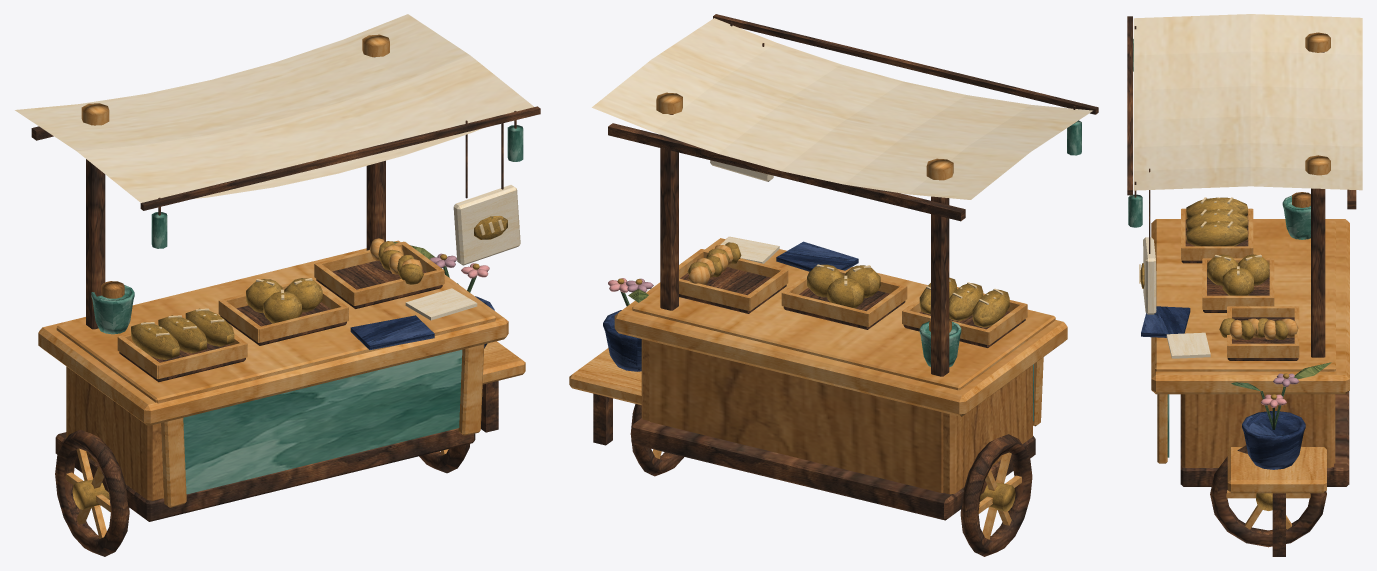
File: bk_project_candidate_bread_cart_editable_parts.glb
The picture shows the model from 3 angles, left to right: view 1: azimuth 30°, elevation 25°; view 2: azimuth 150°, elevation 25°; view 3: azimuth 270°, elevation 25°; orthographic projection. The views are drawn at different scales.
Visible parts, largest first — view 1: 035 Candidate restrained ivory upturned craft awning, 006 Front hand-painted apron, 002 Bread display counter, 001 Counter golden edge, 000 Cart underframe, 004 Cart side storage wall, 013 Cart wooden wheel, 036 Candidate dark timber eave, 086 Bakery hanging sign, 030 Awning post, 007 Apron framing board, 008 Apron framing board (+24 smaller); view 2: 035 Candidate restrained ivory upturned craft awning, 003 Deep storage back, 002 Bread display counter, 001 Counter golden edge, 000 Cart underframe, 004 Cart side storage wall, 013 Cart wooden wheel, 034 Awning rear spreader, 036 Candidate dark timber eave, 030 Awning post, 032 Awning post, 093 Asymmetric planter shelf (+21 smaller); view 3: 035 Candidate restrained ivory upturned craft awning, 002 Bread display counter, 005 Cart side storage wall, 001 Counter golden edge, 093 Asymmetric planter shelf, 095 Blue herb planter, 021 Cart wooden wheel, 032 Awning post, 000 Cart underframe, 054 Golden baguette, 082 Folded indigo tea towel, 036 Candidate dark timber eave (+19 smaller).
Boxes of the visible parts, x1,y1,x2,y2 form: 035 Candidate restrained ivory upturned craft awning: [15, 14, 533, 202]; 006 Front hand-painted apron: [183, 349, 462, 494]; 002 Bread display counter: [56, 250, 495, 403]; 001 Counter golden edge: [38, 240, 508, 425]; 000 Cart underframe: [55, 428, 475, 521]; 004 Cart side storage wall: [66, 366, 163, 501]; 013 Cart wooden wheel: [55, 429, 129, 556]; 036 Candidate dark timber eave: [140, 106, 540, 210]; 086 Bakery hanging sign: [453, 185, 520, 265]; 030 Awning post: [86, 159, 105, 329]; 007 Apron framing board: [161, 418, 186, 507]; 008 Apron framing board: [458, 344, 484, 435]; 035 Candidate restrained ivory upturned craft awning: [592, 18, 1092, 199]; 003 Deep storage back: [649, 341, 943, 492]; 002 Bread display counter: [632, 238, 1055, 390]; 001 Counter golden edge: [614, 238, 1067, 416]; 000 Cart underframe: [631, 418, 1035, 520]; 004 Cart side storage wall: [943, 365, 1032, 494]; 013 Cart wooden wheel: [960, 434, 1032, 556]; 034 Awning rear spreader: [608, 123, 965, 221]; 036 Candidate dark timber eave: [713, 14, 1098, 114]; 030 Awning post: [931, 196, 949, 376]; 032 Awning post: [660, 114, 678, 310]; 093 Asymmetric planter shelf: [569, 348, 641, 405]; 035 Candidate restrained ivory upturned craft awning: [1133, 14, 1362, 190]; 002 Bread display counter: [1155, 219, 1335, 371]; 005 Cart side storage wall: [1181, 394, 1333, 467]; 001 Counter golden edge: [1151, 219, 1349, 394]; 093 Asymmetric planter shelf: [1227, 447, 1326, 493]; 095 Blue herb planter: [1242, 411, 1305, 469]; 021 Cart wooden wheel: [1210, 445, 1326, 547]; 032 Awning post: [1311, 188, 1325, 357]; 000 Cart underframe: [1180, 391, 1349, 486]; 054 Golden baguette: [1186, 221, 1247, 246]; 082 Folded indigo tea towel: [1141, 306, 1190, 337]; 036 Candidate dark timber eave: [1127, 16, 1132, 195].
Size of the model in its own units: 2.72 by 2.32 by 1.33.
Materials: 3 (3 with a texture image).
